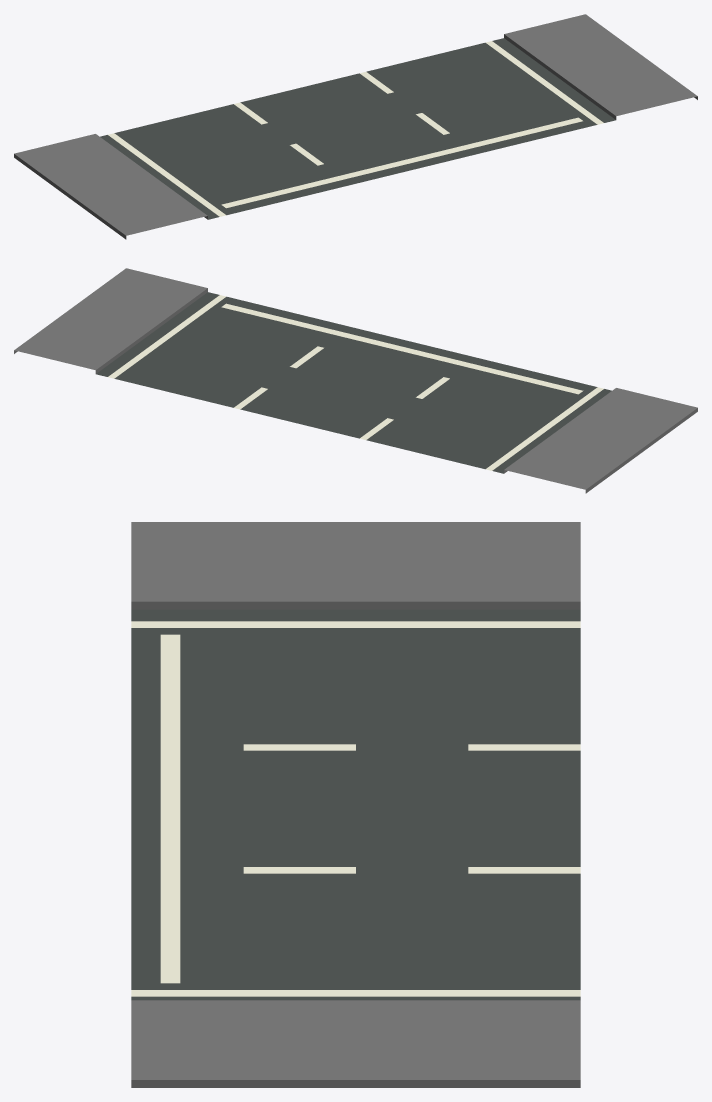
Rendered from Road_Stopline_1.fbx.
3 views of the same model, one above another, from view 1: azimuth 30°, elevation 25°; view 2: azimuth 150°, elevation 25°; view 3: azimuth 270°, elevation 25° (orthographic). The views are drawn at different scales.
Visible parts, largest first — view 1: Road_Stopline_1; view 2: Road_Stopline_1; view 3: Road_Stopline_1.
Part boxes in pixels (x1,y1,x2,y2): Road_Stopline_1: [14, 14, 697, 239]; Road_Stopline_1: [14, 268, 697, 493]; Road_Stopline_1: [131, 522, 580, 1087].
Size of the model in its own units: 29.4 by 0.1948 by 10.
Materials: 1 (1 with a texture image).
